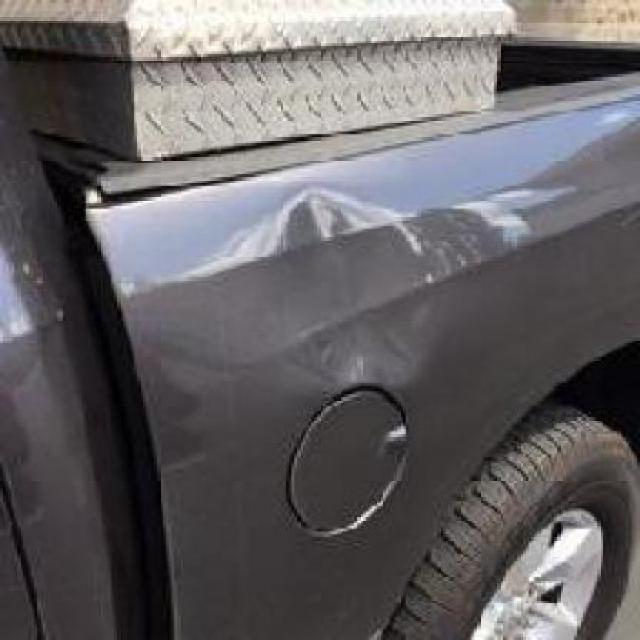dent-or-scratch: (253, 184, 454, 396)
